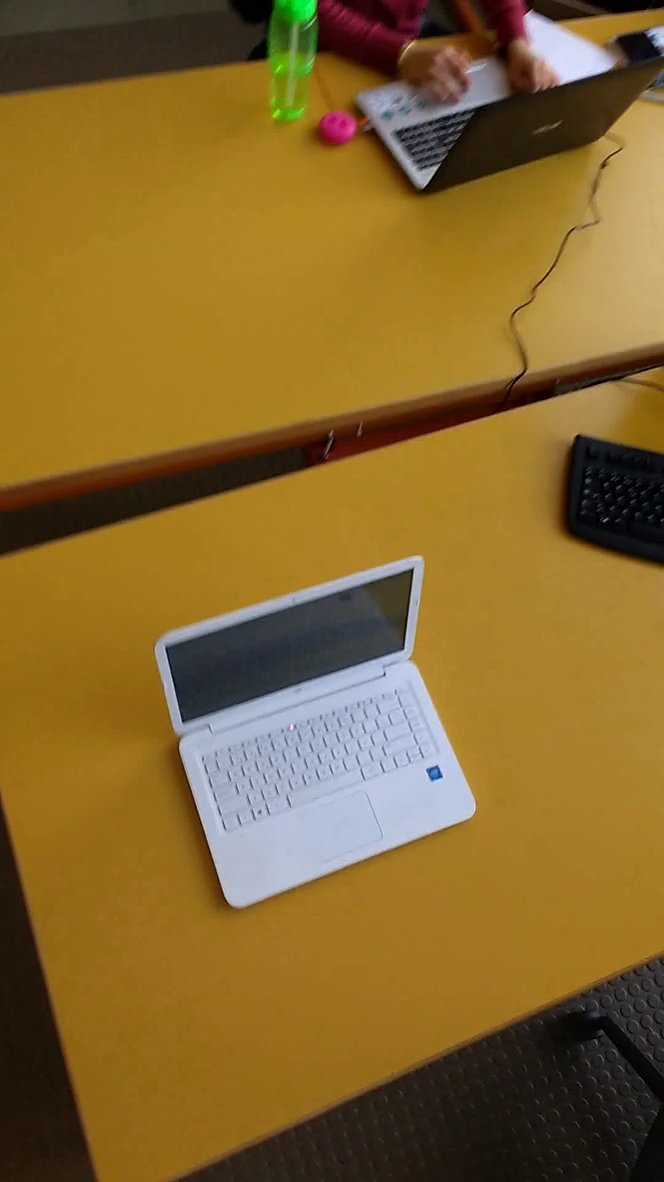laptop: (151, 551, 484, 914), (349, 50, 664, 222)
